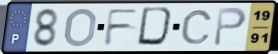8: (32, 7, 61, 49)
C: (179, 9, 215, 46)
D: (135, 6, 178, 49)
F: (102, 7, 142, 48)
O: (62, 7, 99, 49)
P: (212, 6, 249, 48)
